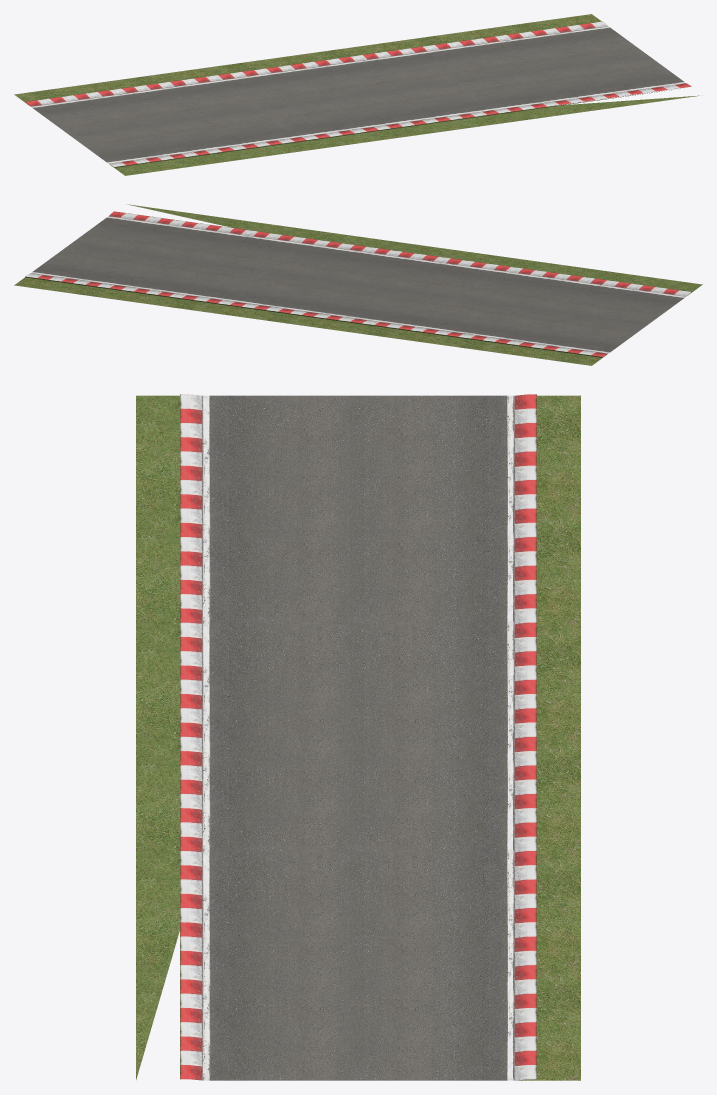
File: map.obj
3 renders of one model, top to bottom at view 1: azimuth 30°, elevation 25°; view 2: azimuth 150°, elevation 25°; view 3: azimuth 270°, elevation 25°, orthographic. The views are drawn at different scales.
Parts seen in each view (by area): view 1: map3.005_map3.006; view 2: map3.005_map3.006; view 3: map3.005_map3.006.
Boxes of the visible parts, box(x1,y1,x2,y2) form: map3.005_map3.006: box(14, 14, 702, 175); map3.005_map3.006: box(14, 204, 702, 365); map3.005_map3.006: box(136, 394, 580, 1080).
Bounding box in the file's own units: 15.15 × 1.53 × 5.05.
Materials: 5 (5 with a texture image).
